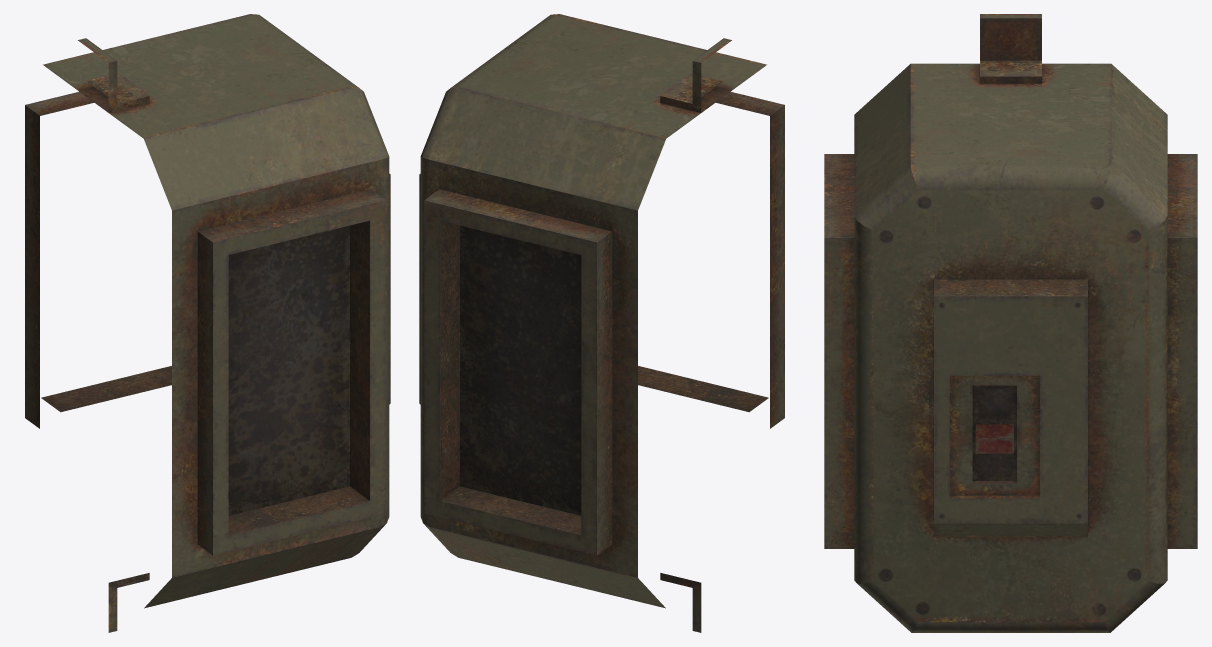
File: SM_ElectricalBox01.glb
3 renders of one model, left to right at view 1: azimuth 30°, elevation 25°; view 2: azimuth 150°, elevation 25°; view 3: azimuth 270°, elevation 25°, orthographic.
Visible parts, largest first — view 1: SM_ElectricalBox01; view 2: SM_ElectricalBox01; view 3: SM_ElectricalBox01.
Boxes of the visible parts, <box> form: SM_ElectricalBox01: <box>25,14,390,632</box>; SM_ElectricalBox01: <box>419,14,784,632</box>; SM_ElectricalBox01: <box>824,14,1197,632</box>.
Size of the model in its own units: 0.1475 by 0.2903 by 0.1735.
Materials: 1 (1 with a texture image).
